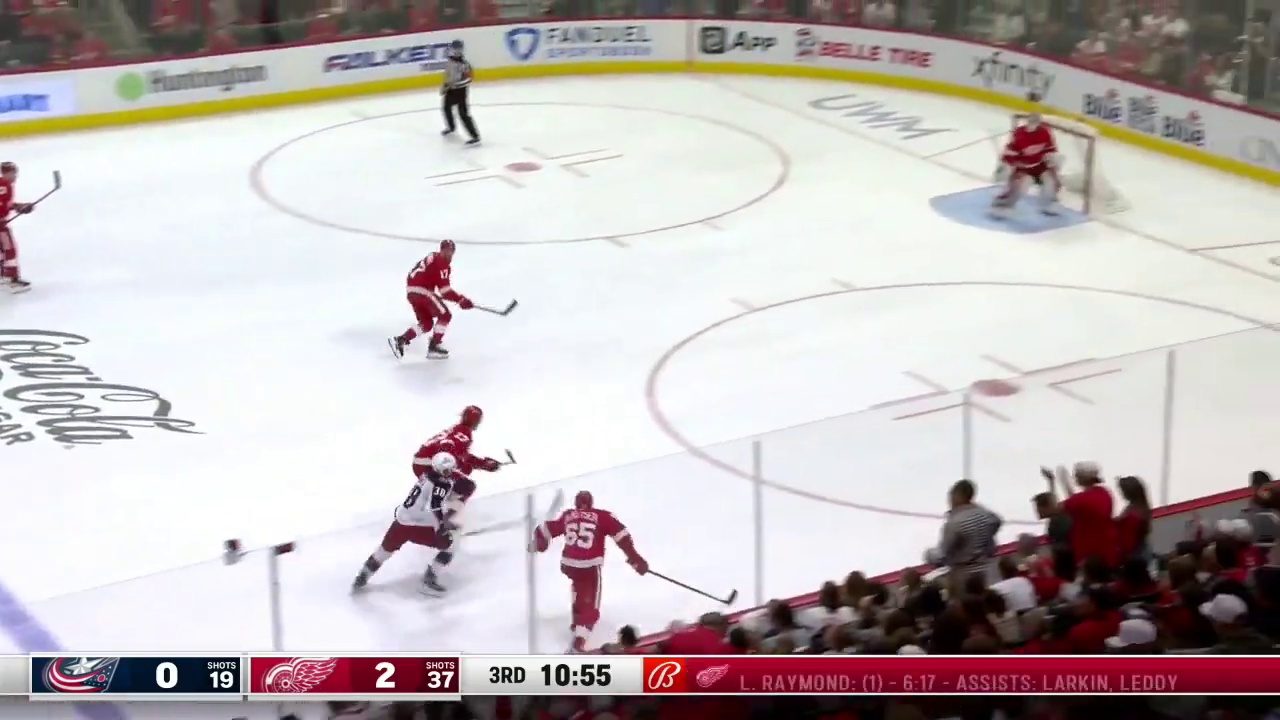goalie: (993, 113, 1062, 216)
hockeyplayer: (528, 489, 648, 652), (350, 452, 462, 597), (412, 405, 500, 533), (387, 239, 474, 360), (1, 163, 33, 295)
referee: (438, 40, 481, 147)
